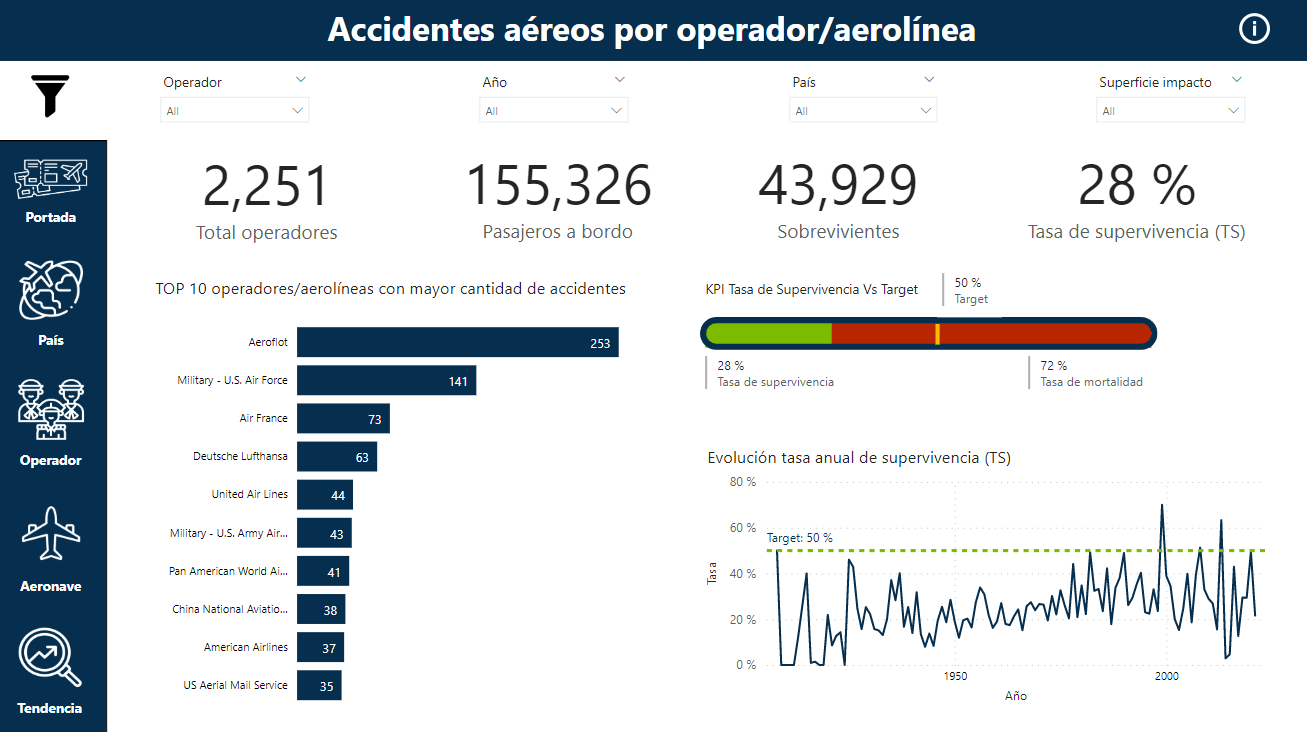

This screenshot's page, from the dashboard's own definition file:
{"tool":"powerbi","page":{"name":"Operador","canvas":[1280,720],"ordinal":2},"visuals":[{"type":"shape","box":[0,0,1280,61.8],"z":0},{"type":"image","box":[16.4,366.8,80.9,69.3],"z":0,"group":"g3"},{"type":"textbox","box":[25,3,1233,55],"z":1000},{"type":"textbox","box":[16.4,436.2,80.9,28.8],"z":1000,"group":"g3"},{"type":"image","box":[31,68.2,51.4,55.8],"z":2000},{"type":"image","box":[16.4,139.1,80.9,76.2],"z":2001,"group":"g1"},{"type":"image","box":[16.4,250.7,80.9,67.7],"z":2002,"group":"g2"},{"type":"image","box":[16.4,484.8,80.9,74.1],"z":2003,"group":"g4"},{"type":"image","box":[15.5,607.3,80.9,69.6],"z":2005,"group":"g5"},{"type":"textbox","box":[16.4,318.5,80.9,28.5],"z":2007,"group":"g2"},{"type":"textbox","box":[16.4,559,80.9,28.6],"z":2009,"group":"g4"},{"type":"textbox","box":[15.5,676.9,80.9,28.5],"z":2010,"group":"g5"},{"type":"textbox","box":[16.4,199.8,80.9,31.3],"z":2011,"group":"g1"},{"type":"shape","box":[0,139,112,581],"z":3000},{"type":"group","id":"g1","title":"Group 1","box":[16.4,139.1,80.9,91.8],"z":4000},{"type":"group","id":"g2","title":"Group 2","box":[16.4,250.7,80.9,96.4],"z":5000},{"type":"group","id":"g3","title":"Group 3","box":[16.4,366.8,80.9,98.2],"z":6000},{"type":"group","id":"g4","title":"Group 4","box":[16.4,484.8,80.9,102.7],"z":7000},{"type":"group","id":"g5","title":"Group 5","box":[15.5,607.3,80.9,98.2],"z":8000},{"type":"slicer","fields":{"Values":["calendar.Year"]},"box":[464.1,68.2,164.7,55.8],"z":9000},{"type":"slicer","fields":{"Values":["surfaces.surface"]},"box":[1064.5,68.2,164.7,55.8],"z":10000},{"type":"slicer","fields":{"Values":["air_accidents.airline_operator"]},"box":[154.1,68.2,164.7,55.8],"z":11000},{"type":"barChart","title":"TOP 10 operadores/aerolíneas con mayor cantidad de accidentes","fields":{"Y":["metrics.total_accidents"],"Category":["air_accidents.airline_operator"]},"box":[154.1,272.2,518.8,432.5],"z":12000},{"type":"lineChart","title":"Evolución tasa anual de supervivencia (TS)","fields":{"Category":["calendar.Date.Variation.Date Hierarchy.Year"],"Y":["metrics.survival_rate"]},"box":[690.6,436.7,555.4,254.8],"z":13000},{"type":"slicer","fields":{"Values":["countries.country"]},"box":[765.5,68.1,164.4,56.4],"z":14000},{"type":"hundredPercentStackedBarChart","fields":{"Y":["metrics.survival_rate","metrics.mortality_rate"]},"box":[688.6,269.4,443.8,112],"z":15000},{"type":"shape","box":[688.7,311.6,445,31.8],"z":16000},{"type":"multiRowCard","fields":{"Values":["metrics.survival_rate"]},"box":[688.7,344.4,136.6,44.2],"z":17000},{"type":"multiRowCard","fields":{"Values":["metrics.mortality_rate"]},"box":[1003,344.4,130.5,44.2],"z":18000},{"type":"shape","box":[899.2,317.7,40.1,19.5],"z":19000},{"type":"multiRowCard","fields":{"Values":["metrics.target_survival_rate"]},"box":[919.6,263.8,63.2,47.7],"z":20000},{"type":"card","fields":{"Values":["metrics.total_operators"]},"box":[154.1,139.7,227,103.8],"z":21000},{"type":"card","fields":{"Values":["metrics.total_aboard"]},"box":[452.7,138.7,196.2,104.8],"z":22000},{"type":"card","fields":{"Values":["metrics.total_survivors"]},"box":[720.5,138.7,205.5,104.8],"z":23000},{"type":"card","fields":{"Values":["metrics.survival_rate"]},"box":[997.5,138.7,231.1,104.8],"z":24000},{"type":"actionButton","box":[1208.1,10.3,40.1,40.1],"z":25000},{"type":"textbox","box":[689.1,269.6,230.5,28.2],"z":26000}]}

Visuals, with their boxes in screenshot pixels (x1, y1, x2, y2), scaled from the page's 1280x720 canvas onto the 1307x732 screenshot:
shape: locate(0, 0, 1306, 63)
image: locate(17, 373, 99, 443)
textbox: locate(26, 3, 1285, 59)
textbox: locate(17, 443, 99, 473)
image: locate(32, 69, 84, 126)
image: locate(17, 141, 99, 219)
image: locate(17, 255, 99, 324)
image: locate(17, 493, 99, 568)
image: locate(16, 617, 98, 688)
textbox: locate(17, 324, 99, 353)
textbox: locate(17, 568, 99, 597)
textbox: locate(16, 688, 98, 717)
textbox: locate(17, 203, 99, 235)
shape: locate(0, 141, 114, 731)
"Group 1" group: locate(17, 141, 99, 235)
"Group 2" group: locate(17, 255, 99, 353)
"Group 3" group: locate(17, 373, 99, 473)
"Group 4" group: locate(17, 493, 99, 597)
"Group 5" group: locate(16, 617, 98, 717)
slicer - calendar.Year: locate(474, 69, 642, 126)
slicer - surfaces.surface: locate(1087, 69, 1255, 126)
slicer - air_accidents.airline_operator: locate(157, 69, 326, 126)
"TOP 10 operadores/aerolíneas con mayor cantidad de accidentes" barChart: locate(157, 277, 687, 716)
"Evolución tasa anual de supervivencia (TS)" lineChart: locate(705, 444, 1272, 703)
slicer - countries.country: locate(782, 69, 950, 127)
hundredPercentStackedBarChart - metrics.survival_rate x metrics.mortality_rate: locate(703, 274, 1156, 388)
shape: locate(703, 317, 1158, 349)
multiRowCard - metrics.survival_rate: locate(703, 350, 843, 395)
multiRowCard - metrics.mortality_rate: locate(1024, 350, 1157, 395)
shape: locate(918, 323, 959, 343)
multiRowCard - metrics.target_survival_rate: locate(939, 268, 1004, 317)
card - metrics.total_operators: locate(157, 142, 389, 248)
card - metrics.total_aboard: locate(462, 141, 663, 248)
card - metrics.total_survivors: locate(736, 141, 946, 248)
card - metrics.survival_rate: locate(1019, 141, 1255, 248)
actionButton: locate(1234, 10, 1275, 51)
textbox: locate(704, 274, 939, 303)
